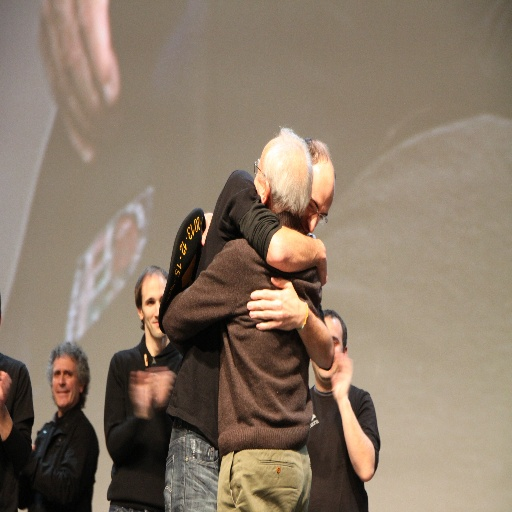hand: (240, 286, 298, 330), (329, 346, 353, 403), (149, 365, 177, 407), (129, 371, 153, 419), (316, 238, 328, 288), (0, 369, 13, 405)
